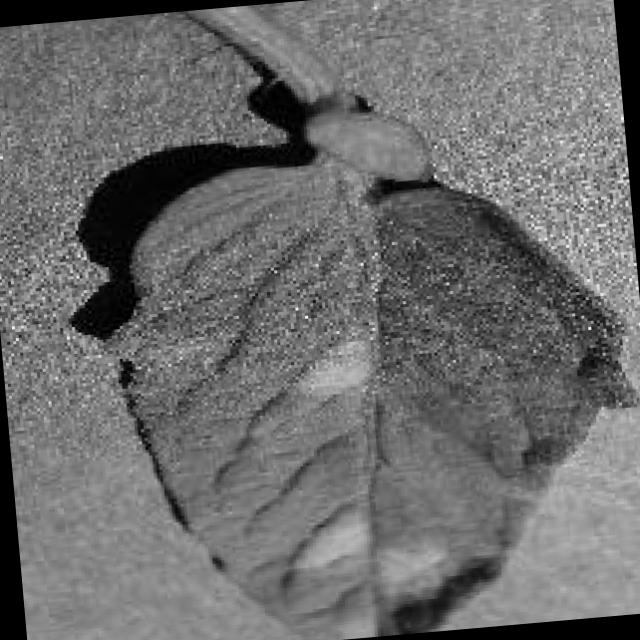leaf mold: (111, 5, 632, 640)
